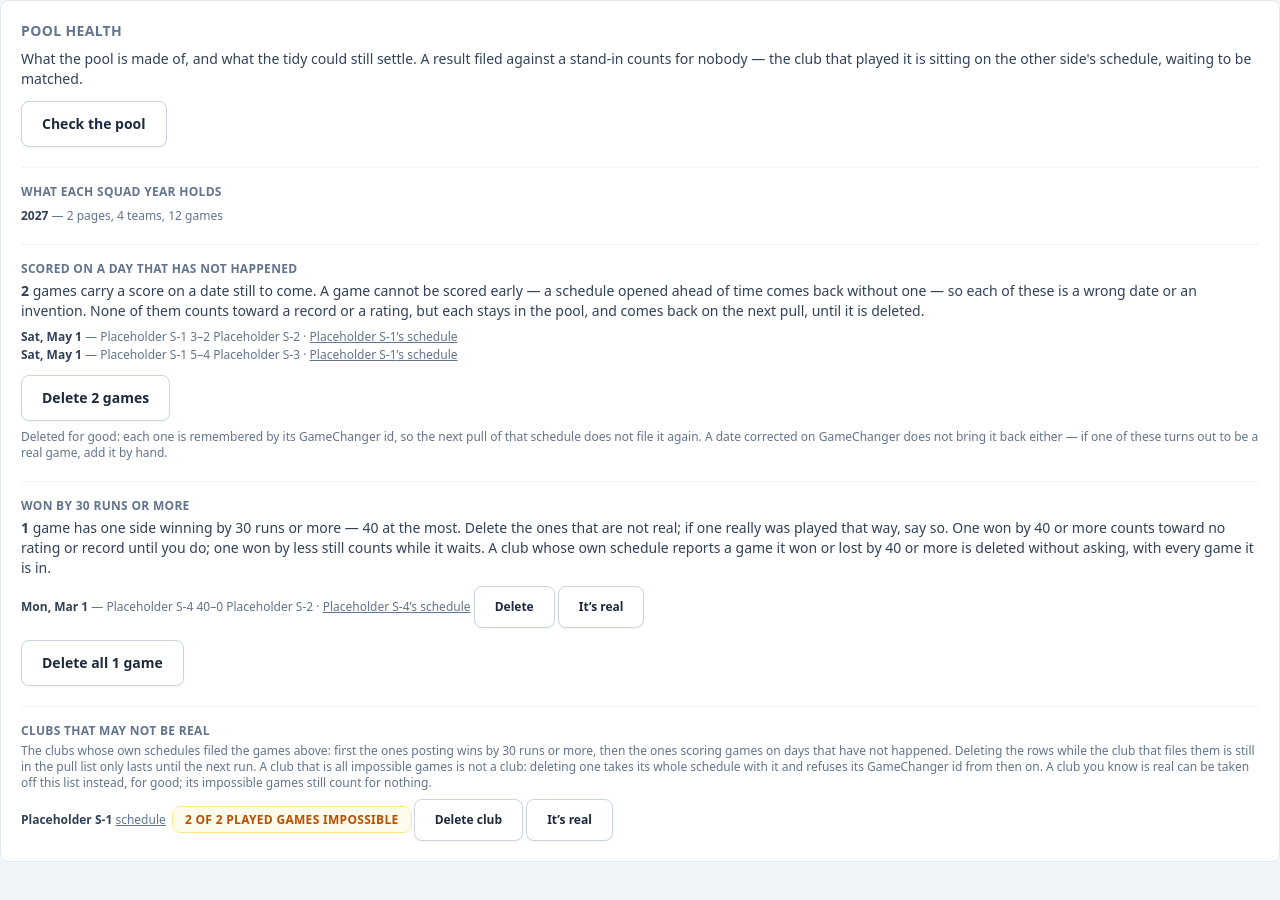
Test: Pool health's buttons, sent as edits › keeps a pair apart for good, and stops offering it
Click the button "Check the pool" at (94, 124), box [21,101,167,147]
(page scrolled)
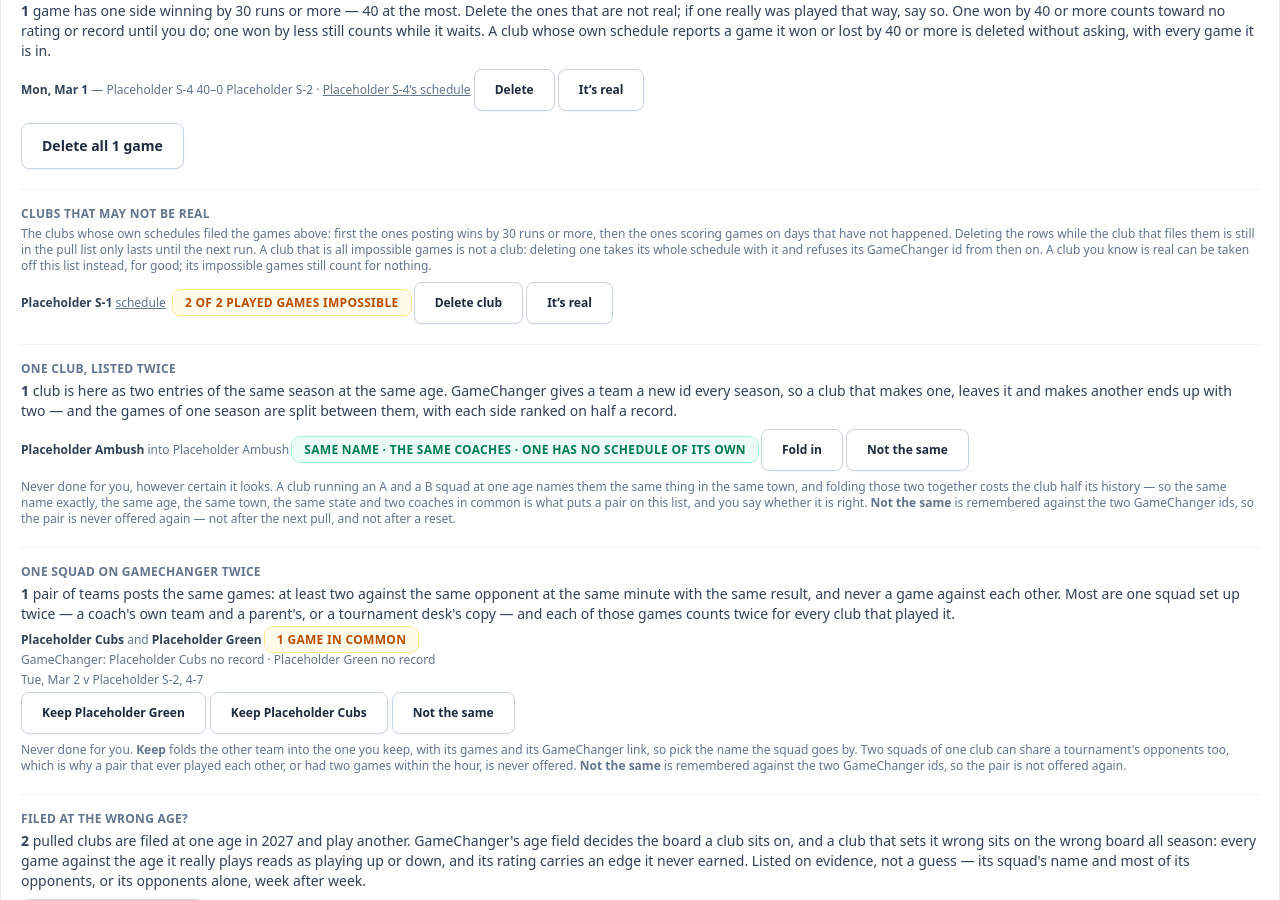
Click the 1st button "Not the same" at (907, 450), box [846,429,969,471]
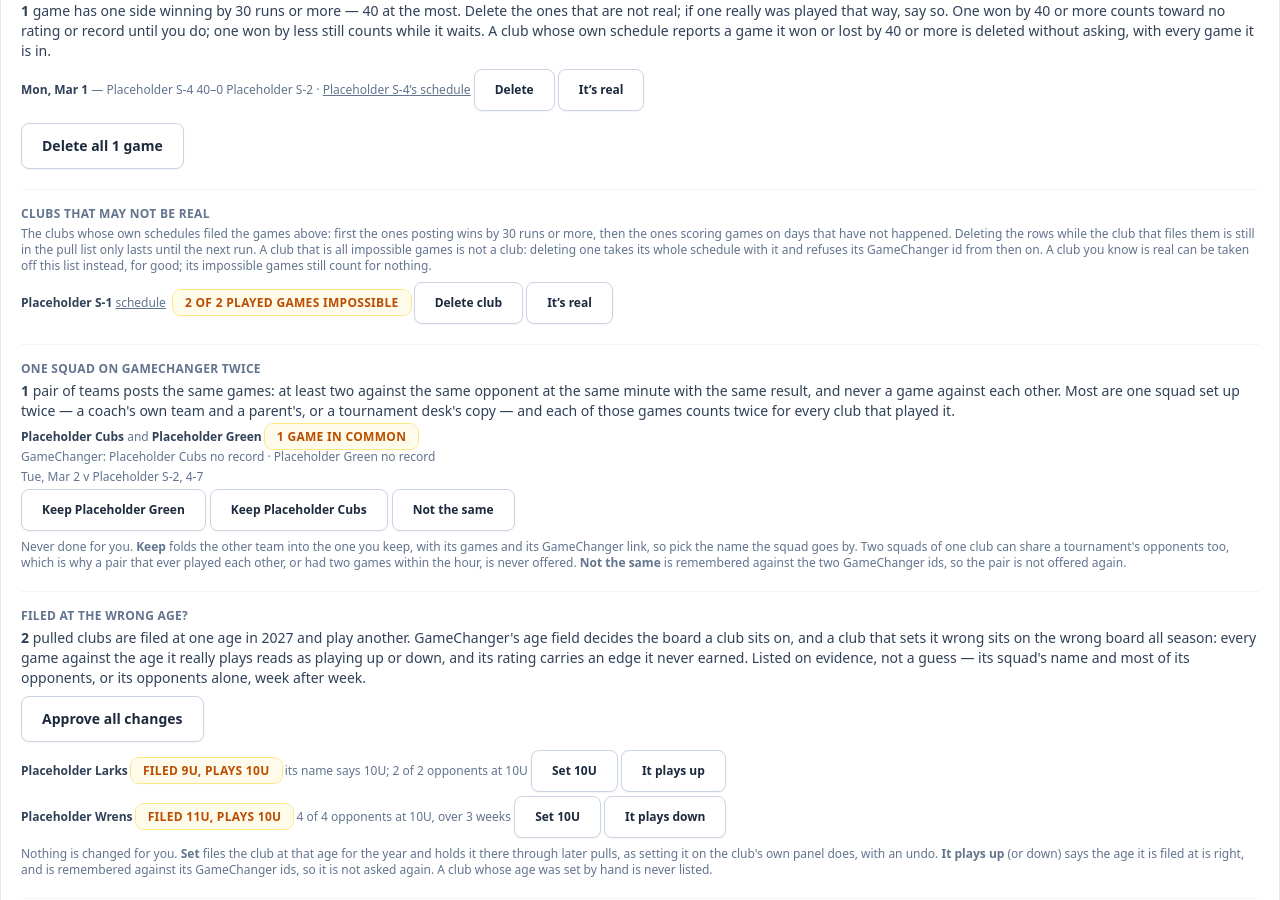
Expected: the heading "One club, listed twice" is gone
